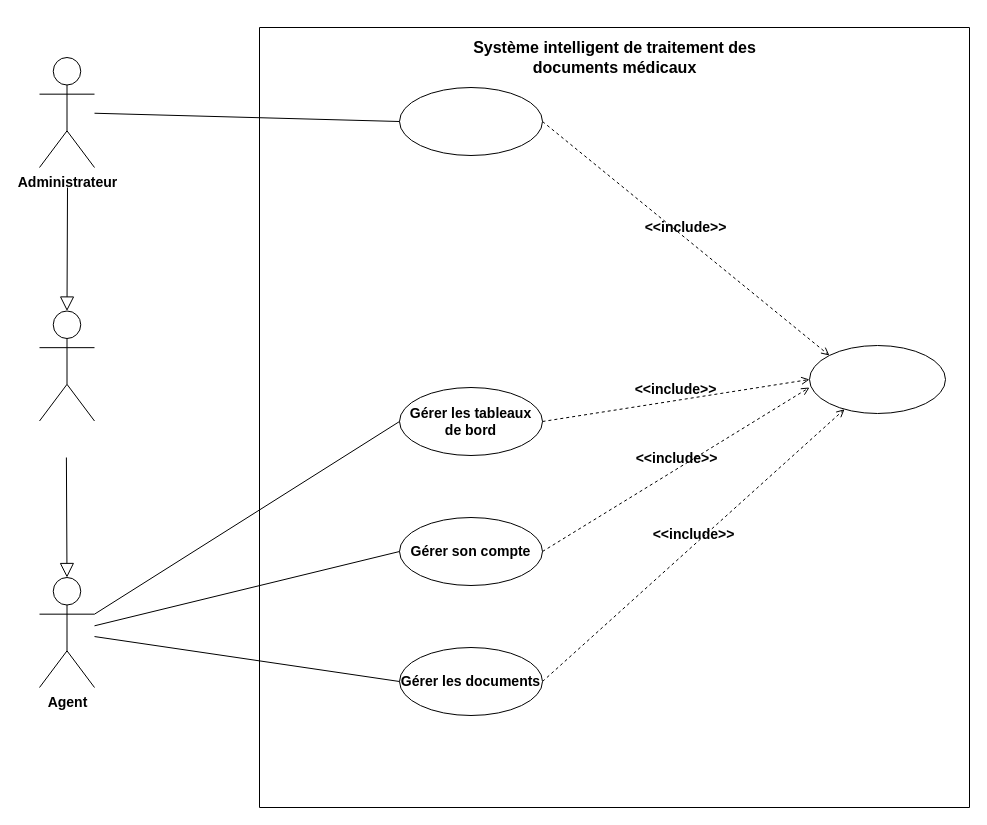
This 987x825 diagram has some shape labels left out. Each missing label, with the box of its shape:
Gestionnaire: (38, 310, 94, 421)
Gérer les utilisateurs: (398, 86, 542, 156)
S'authentifier: (808, 344, 946, 414)
